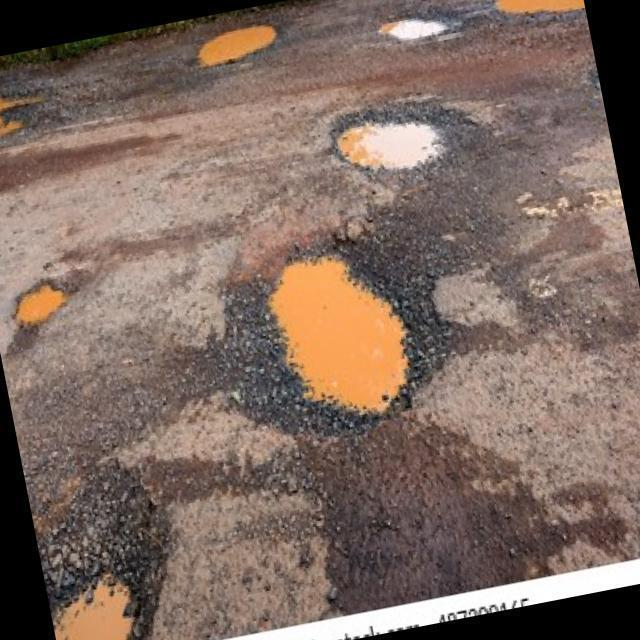pothole: (255, 223, 432, 439), (331, 101, 453, 188), (42, 552, 150, 640), (193, 18, 282, 70), (373, 2, 453, 53), (8, 277, 75, 330), (0, 76, 47, 148), (487, 0, 586, 29)
